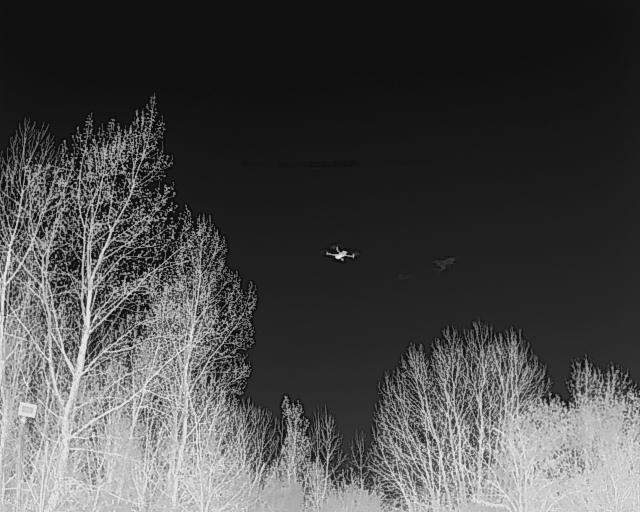drone: (318, 241, 363, 269)
